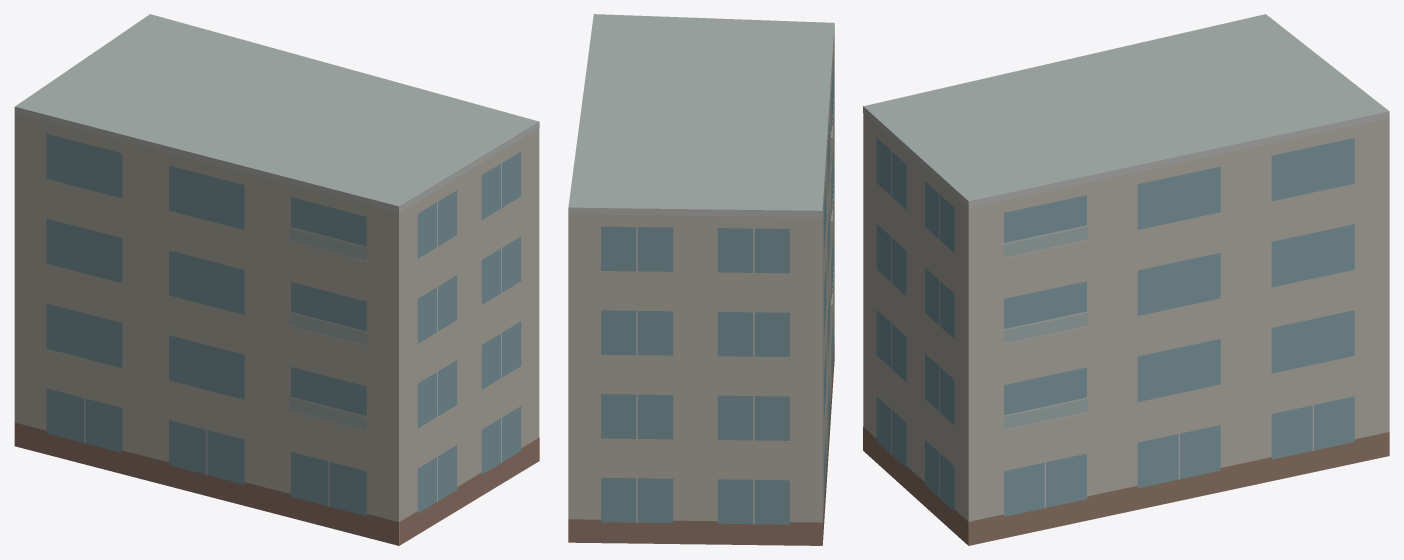
The model's file is survey-upis-32887716.glb.
3 views of the same model, side by side, from view 1: azimuth 30°, elevation 25°; view 2: azimuth 150°, elevation 25°; view 3: azimuth 270°, elevation 25° (orthographic). The views are drawn at different scales.
Parts seen in each view (by area): view 1: survey-upis-32887716.tmp; view 2: survey-upis-32887716.tmp; view 3: survey-upis-32887716.tmp.
Boxes of the visible parts, x1,y1,x2,y2 form: survey-upis-32887716.tmp: [14, 14, 539, 545]; survey-upis-32887716.tmp: [568, 14, 834, 545]; survey-upis-32887716.tmp: [863, 14, 1389, 545].
Bounding box in the file's own units: 14.41 × 12.35 × 17.11.
